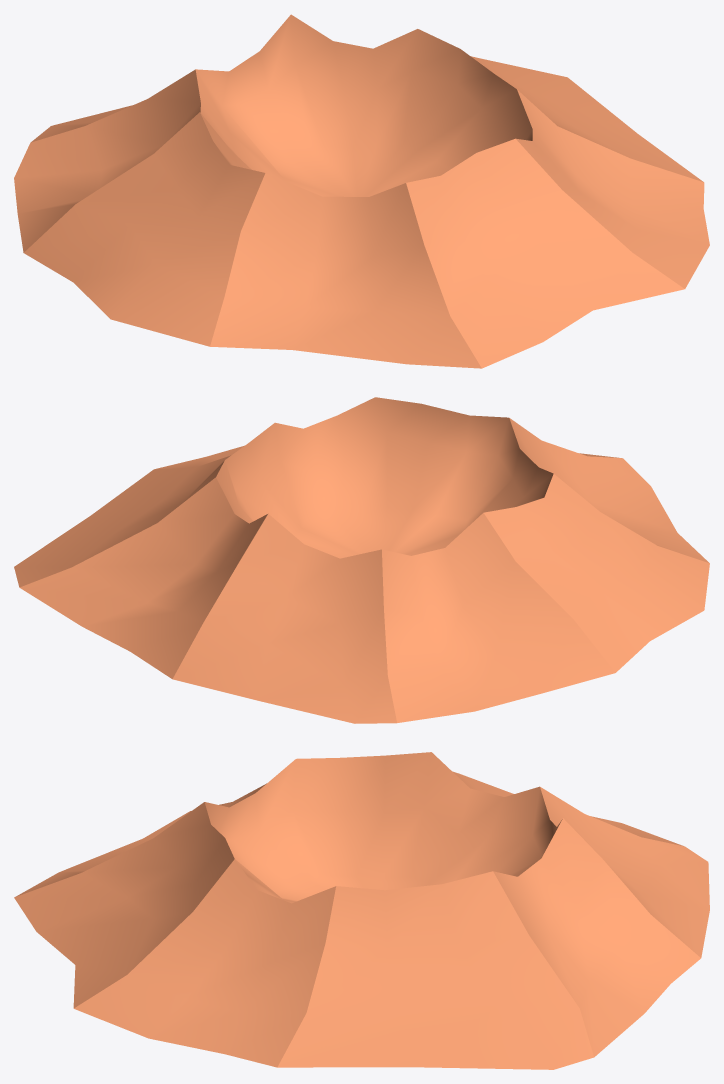
File: Crater_2.fbx
3 views of the same model, one above another, from view 1: azimuth 30°, elevation 25°; view 2: azimuth 150°, elevation 25°; view 3: azimuth 270°, elevation 25° (orthographic). The views are drawn at different scales.
Visible parts, largest first — view 1: Crater_2; view 2: Crater_2; view 3: Crater_2.
Boxes of the visible parts, box(x1,y1,x2,y2) form: Crater_2: box(14, 14, 709, 368); Crater_2: box(14, 397, 709, 723); Crater_2: box(14, 752, 709, 1069).
Size of the model in its own units: 333 by 69.6 by 348.
